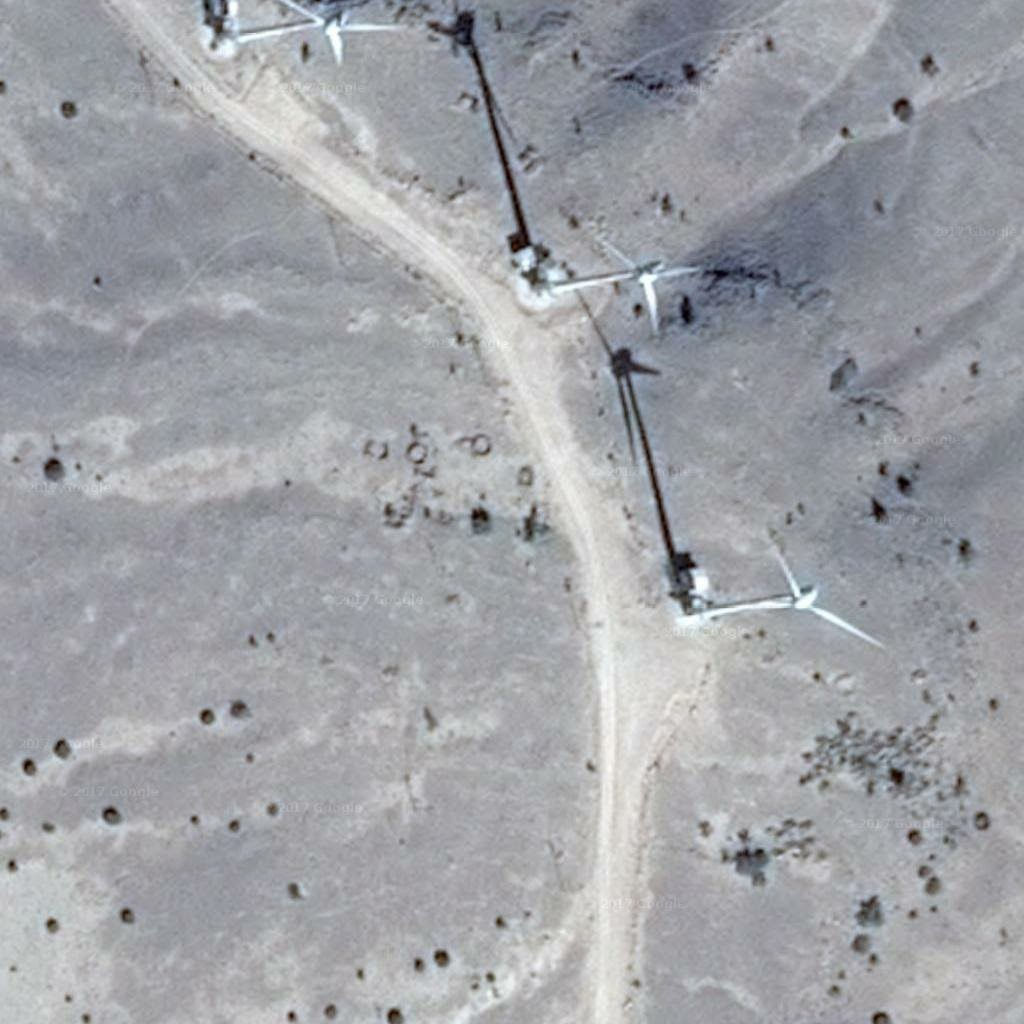Windmill: (576, 288, 700, 583)
